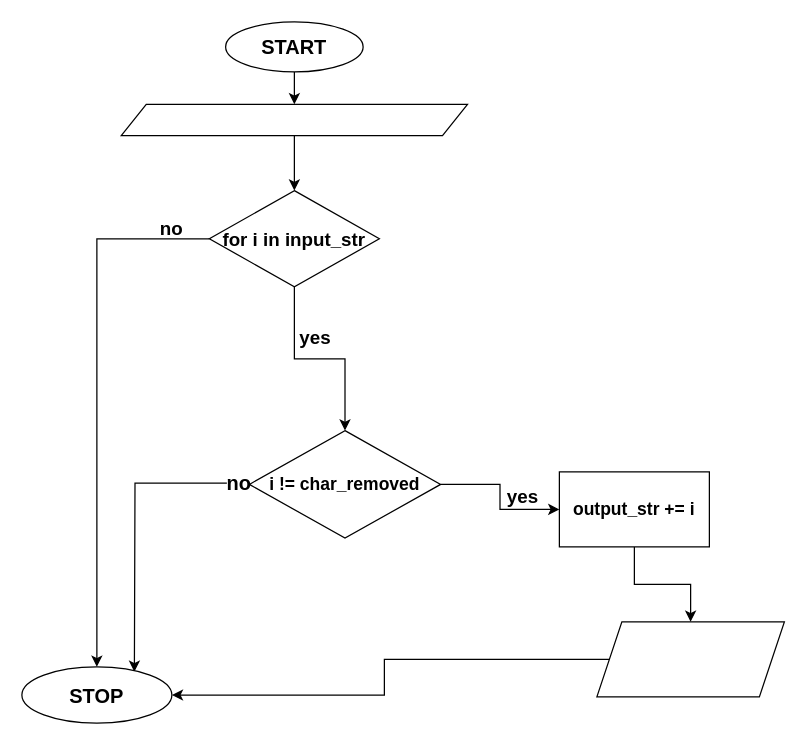
Image size: 806x745. Some labels were removed from this diagram. The shapes that lost their labels are listed below. From the top down, each one's centre as x and y in pixels, then its label:
the point at 294,119: input_str,char_removed,output_str
the point at 690,659: print output_str
